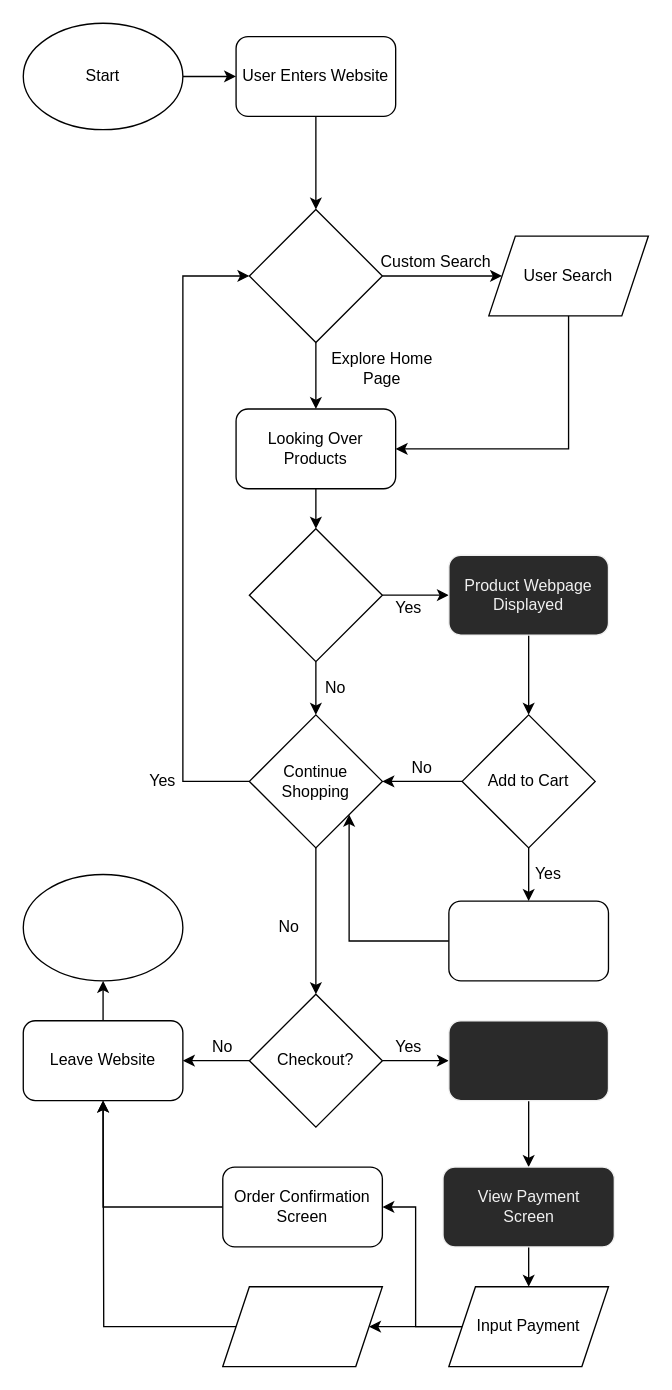
Image size: 672x1390. Some labels were removed from this diagram. Each missing label, with the box of its shape:
Confirmation: (448, 900, 608, 981)
End: (22, 873, 183, 981)
Send Email: (221, 1285, 382, 1367)
User Decision: (248, 208, 382, 342)
View Cart Screen: (448, 1019, 608, 1101)
View Specific Product: (248, 527, 382, 662)
